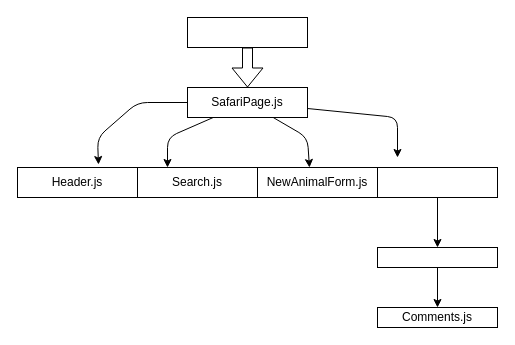
The diagram is 515 pixels wide and 345 high, and some of its shapes have lost their labels. The box of each missing label's shape, as (x1, y1, x2, y2) in pixels:
app.js: (186, 16, 308, 48)
Posts.js: (376, 246, 498, 268)
PostsLists.js: (376, 166, 498, 198)
